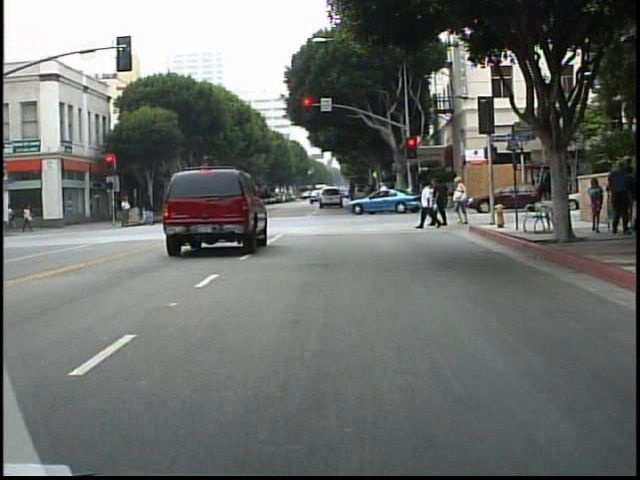person: (584, 174, 605, 236), (417, 180, 440, 230), (534, 164, 552, 226), (453, 174, 471, 228), (247, 180, 265, 229), (435, 178, 451, 227), (376, 177, 394, 215), (22, 202, 38, 237), (363, 181, 378, 214), (6, 200, 20, 235), (121, 194, 134, 231), (143, 192, 156, 228), (404, 181, 417, 214)
